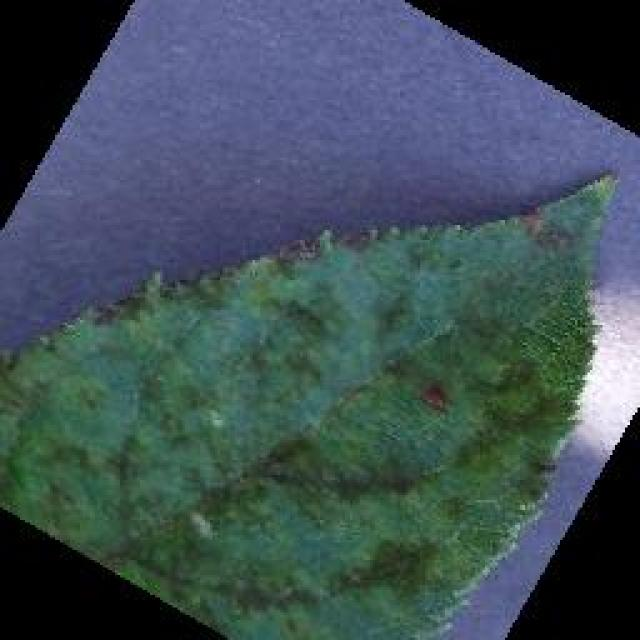apple scab disease: (0, 168, 620, 638)
